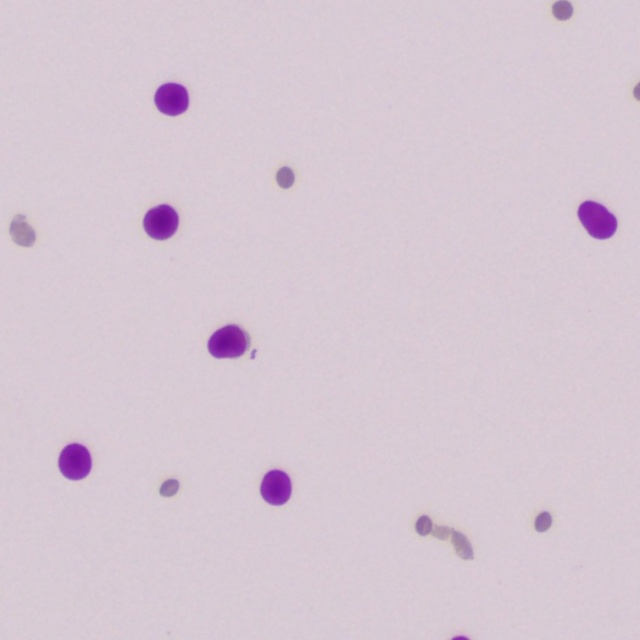intermediate: (534, 511, 551, 530)
non_viable: (10, 215, 35, 246), (552, 0, 572, 20), (275, 166, 294, 187), (160, 478, 178, 496), (416, 515, 432, 535), (633, 82, 640, 100)
viable: (578, 201, 616, 238), (208, 325, 246, 357), (58, 443, 90, 478), (144, 205, 177, 238), (155, 83, 188, 115), (261, 469, 290, 504)
